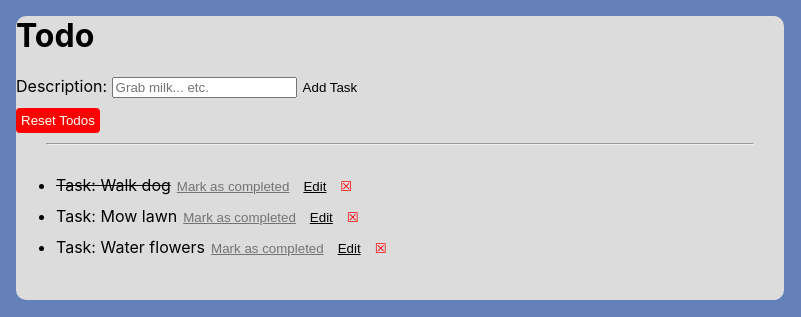
it: should delete a todo item
Check: the list item "Water flowers" is shown, box [100,237,205,257]
Click the button with class "Todo-deleteBtn" in the row of "Water flowers". click: (381, 249)
box: [369,240,393,257]
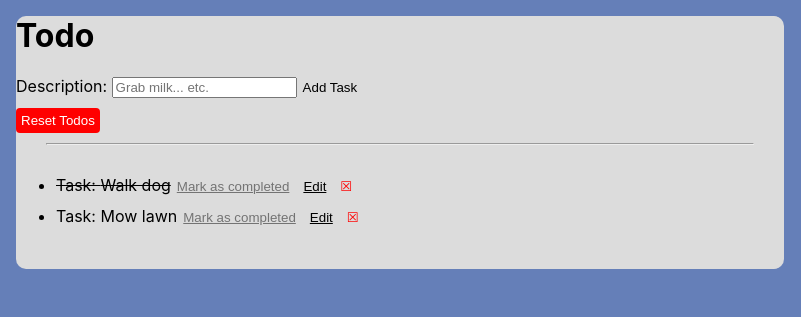
Check: the list item "Water flowers" is gone
